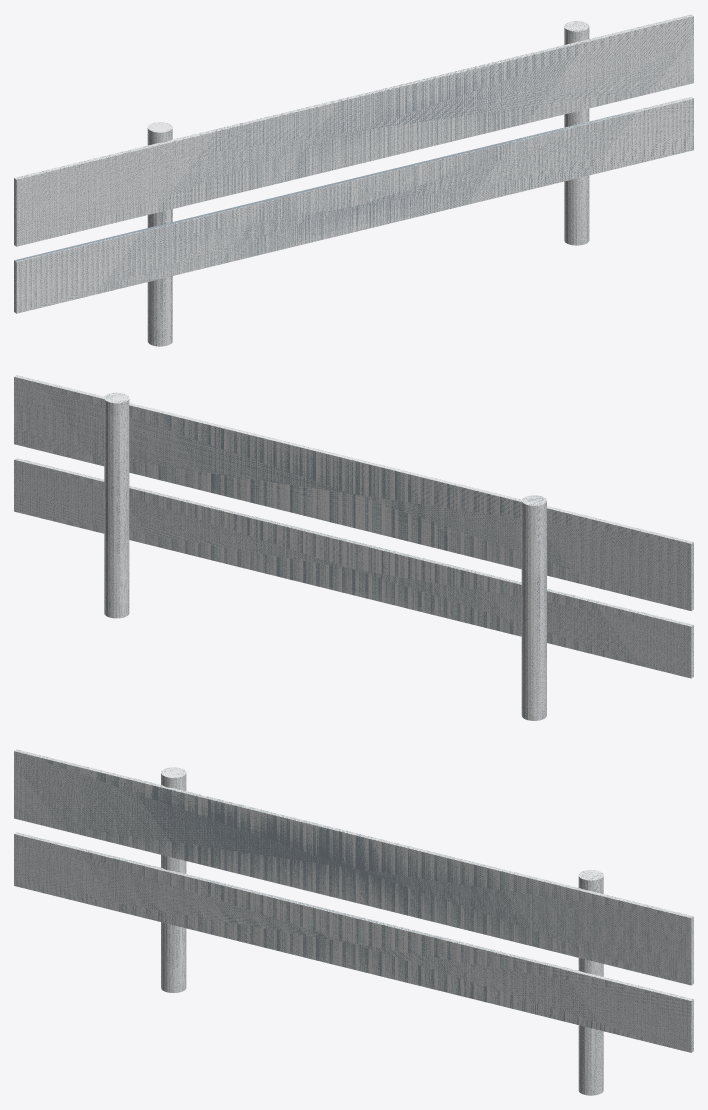
The model's file is fence.dae.
The picture shows the model from 3 angles, top to bottom: view 1: azimuth 30°, elevation 25°; view 2: azimuth 150°, elevation 25°; view 3: azimuth 330°, elevation 25°; orthographic projection.
Visible parts, largest first — view 1: instance_0 (×4); view 2: instance_0 (×4); view 3: instance_0 (×4).
Boxes of the visible parts, x1,y1,x2,y2 form: instance_0 (×4): (14, 14, 693, 346); instance_0 (×4): (14, 375, 693, 720); instance_0 (×4): (14, 749, 693, 1095).
Bounding box in the file's own units: 122 × 4.91 × 37.01.
